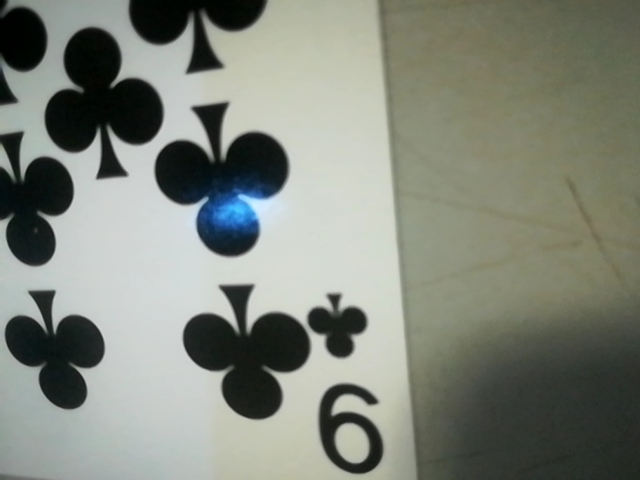mh 9: (300, 275, 404, 480)
